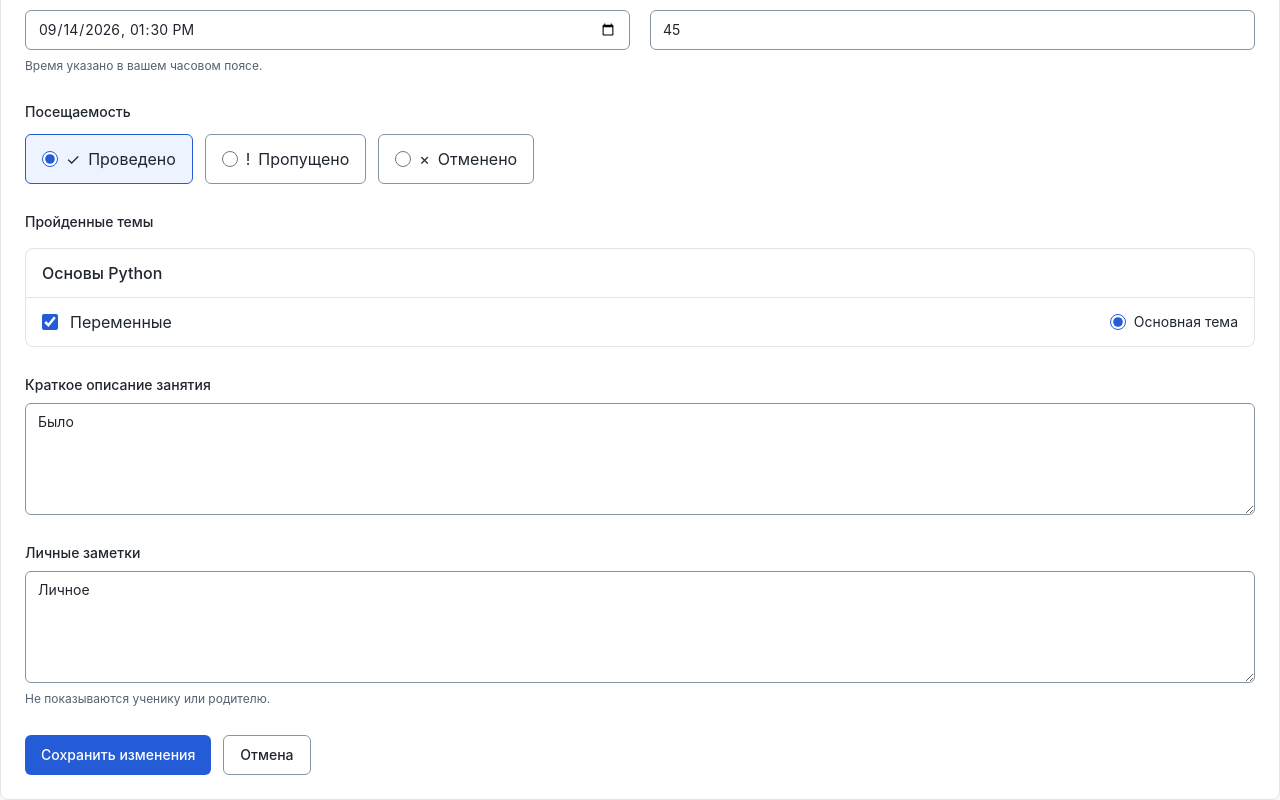
Scenario: SessionForm › shows optimistic-lock conflict guidance
(page scrolled)
Click the button "Сохранить изменения".
click(118, 755)  # box [25,735,211,775]
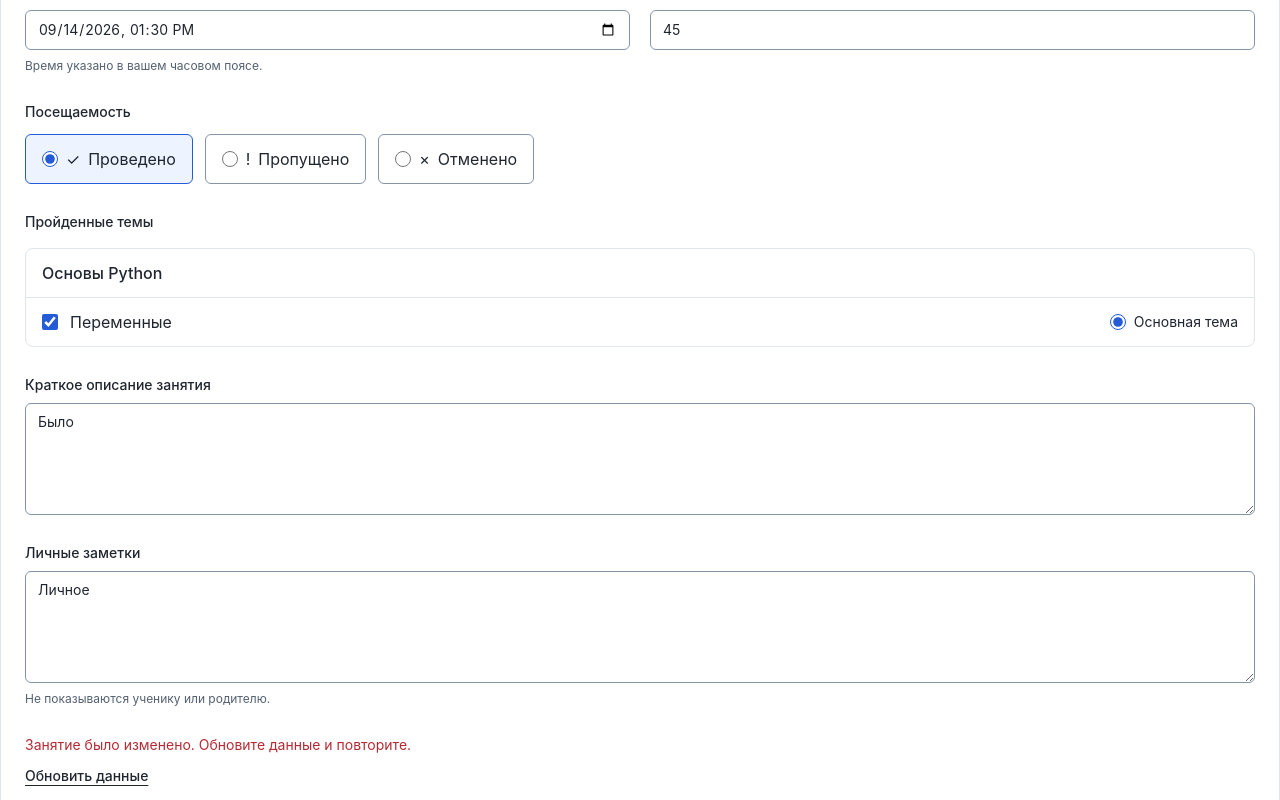
Expected: the message shows "Занятие было изменено. Обновите данные и повторите.", [25,736,411,753]
Expected: the button "Обновить данные" is shown, [25,766,148,786]
